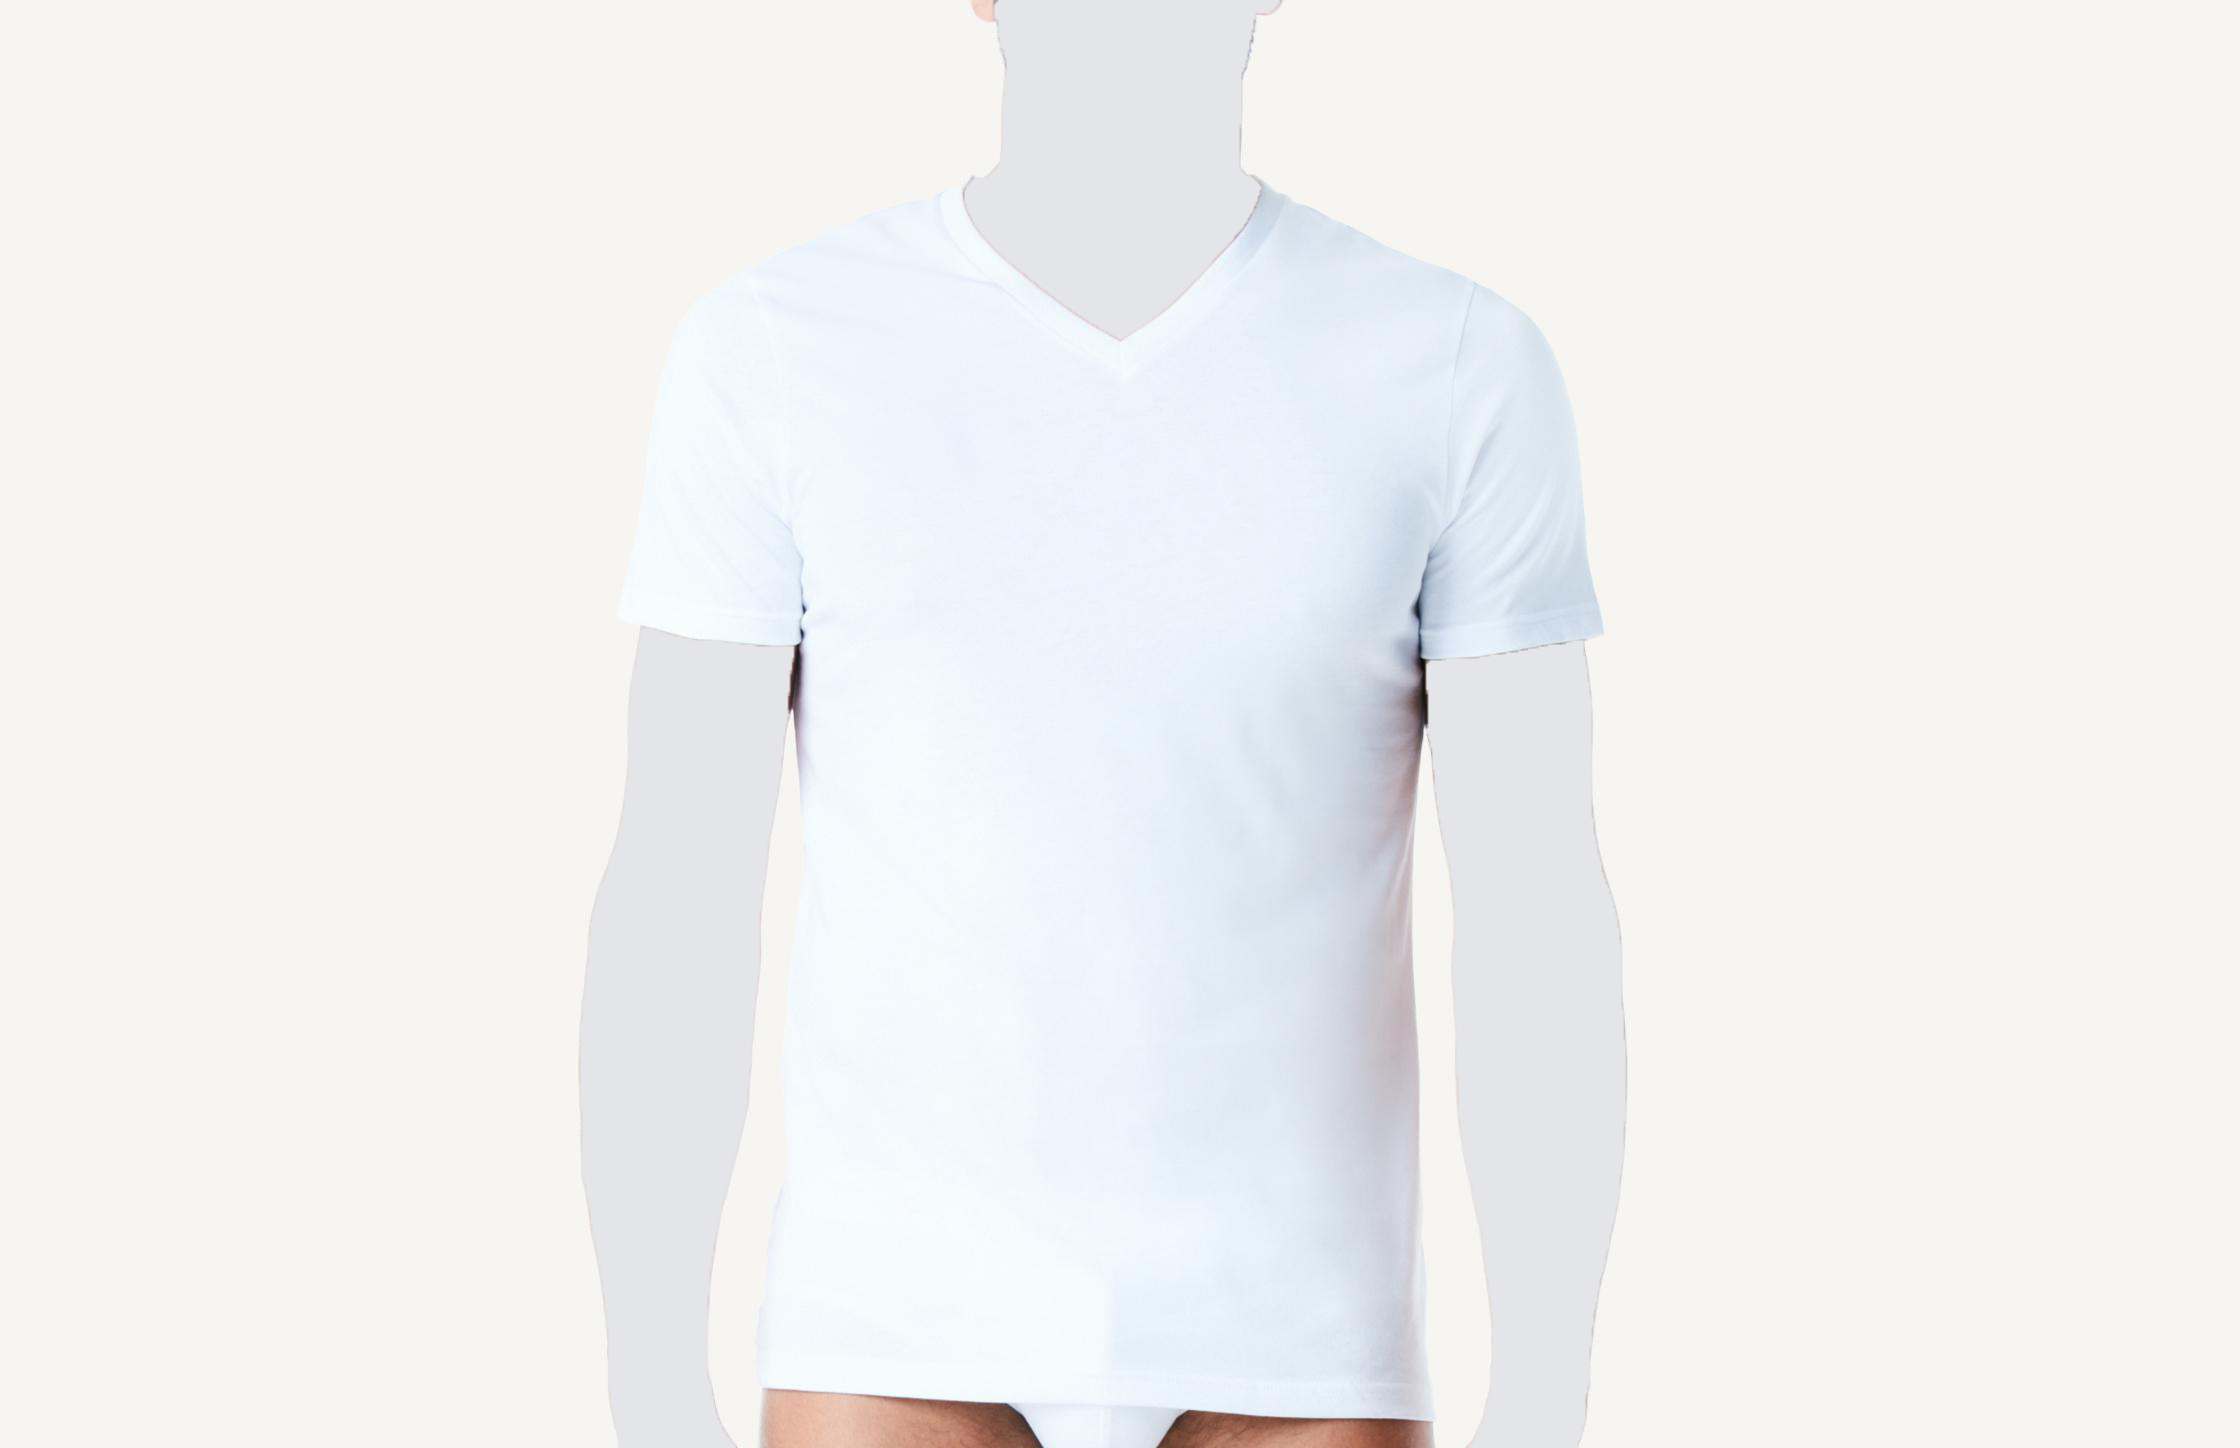teeshirt: (593, 184, 1624, 1435)
